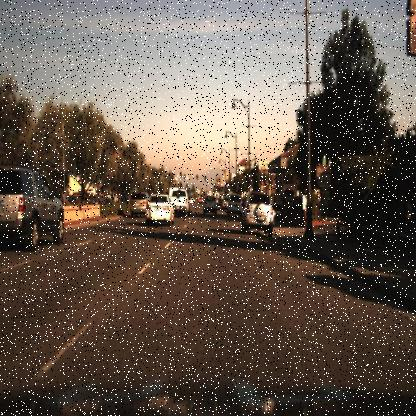car: (0, 159, 68, 251), (242, 191, 274, 235), (147, 194, 175, 230), (127, 191, 150, 219), (172, 186, 190, 215), (226, 192, 244, 217), (202, 193, 216, 216)
